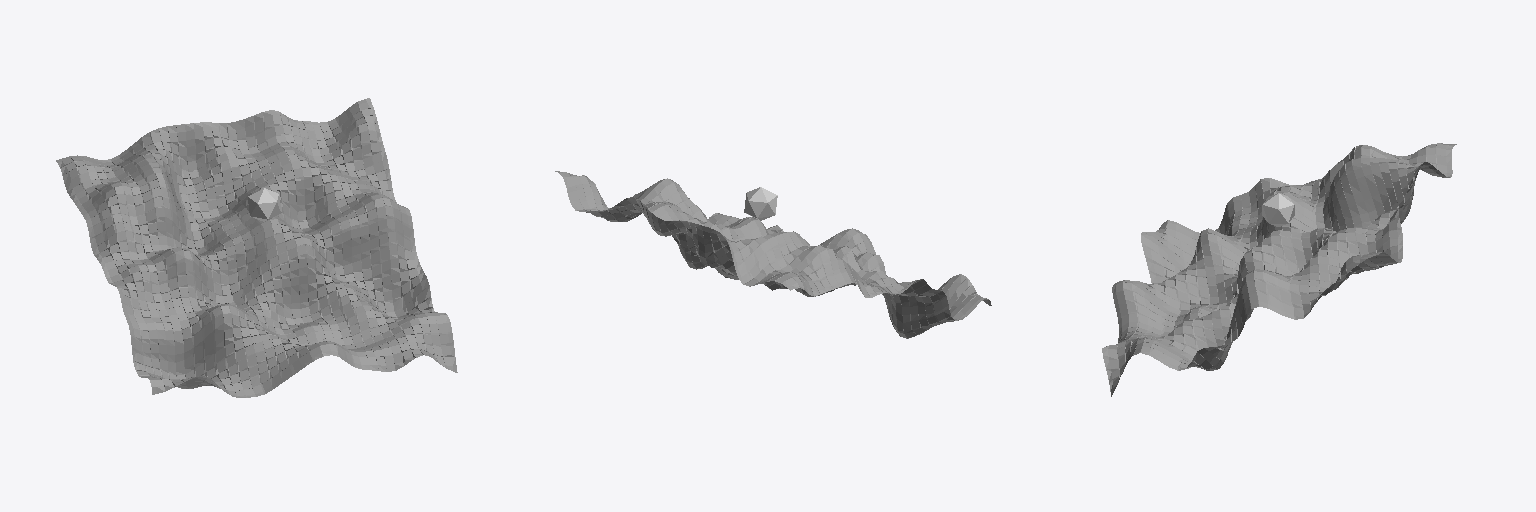
File: ScanningElectronBackdrop.obj
3 views of the same model, side by side, from view 1: azimuth 30°, elevation 25°; view 2: azimuth 150°, elevation 25°; view 3: azimuth 270°, elevation 25° (orthographic).
Parts seen in each view (by area): view 1: Grid, Icosphere.010_Icosphere.000; view 2: Grid, Icosphere.010_Icosphere.000; view 3: Grid, Icosphere.010_Icosphere.000.
Part boxes in pixels (x1,y1,x2,y2): Grid: (56, 98, 457, 397); Icosphere.010_Icosphere.000: (248, 188, 280, 221); Grid: (555, 171, 991, 338); Icosphere.010_Icosphere.000: (744, 187, 777, 220); Grid: (1102, 143, 1456, 396); Icosphere.010_Icosphere.000: (1262, 193, 1294, 226).
Bounding box in the file's own units: 20.04 × 9.85 × 18.84.